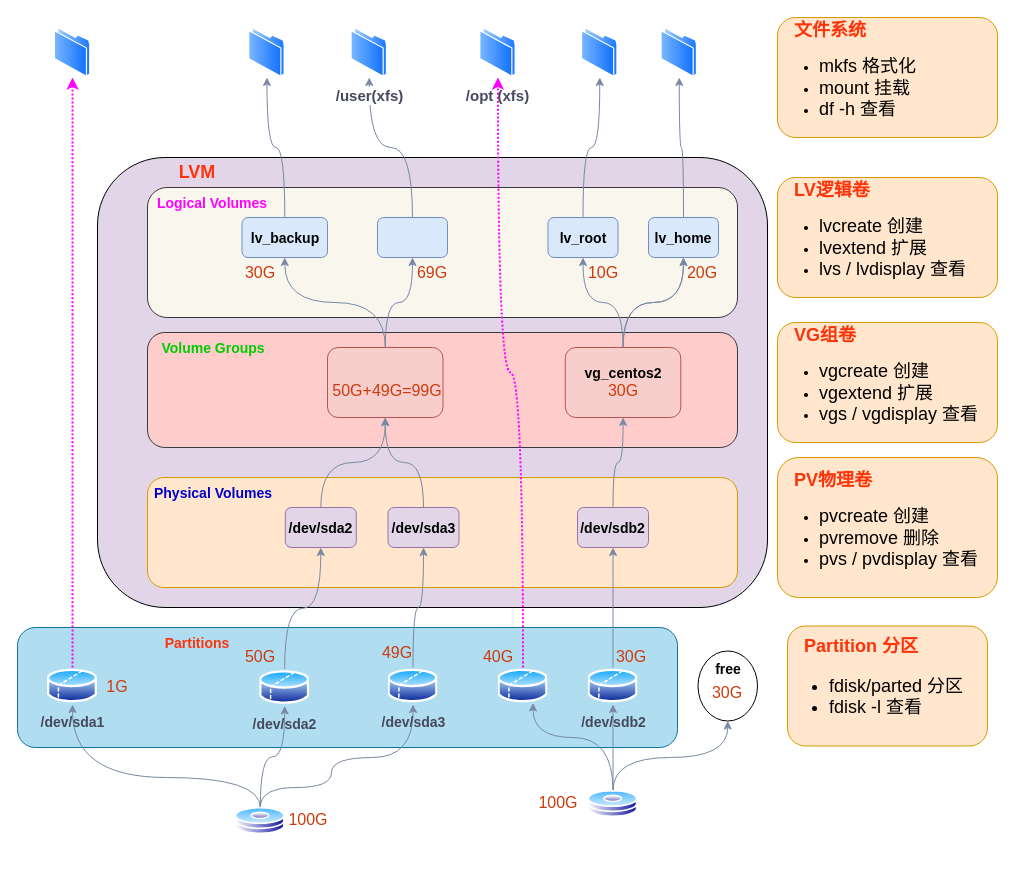
Image size: 1015x876. Some labels were removed from this diagram. Each missing label, with the box of its shape:
/backup(xfs): (248, 27, 285, 77)
/boot (xfs): (54, 27, 90, 77)
/dev/sdb1: (498, 667, 548, 704)
/home(xfs): (660, 27, 697, 77)
/root(xfs): (581, 27, 618, 77)
lv_user: (376, 216, 448, 258)
vg_centos1: (326, 346, 443, 418)
磁盘 /dev/sda: (235, 807, 285, 834)
磁盘 /dev/sdb: (588, 790, 638, 817)
